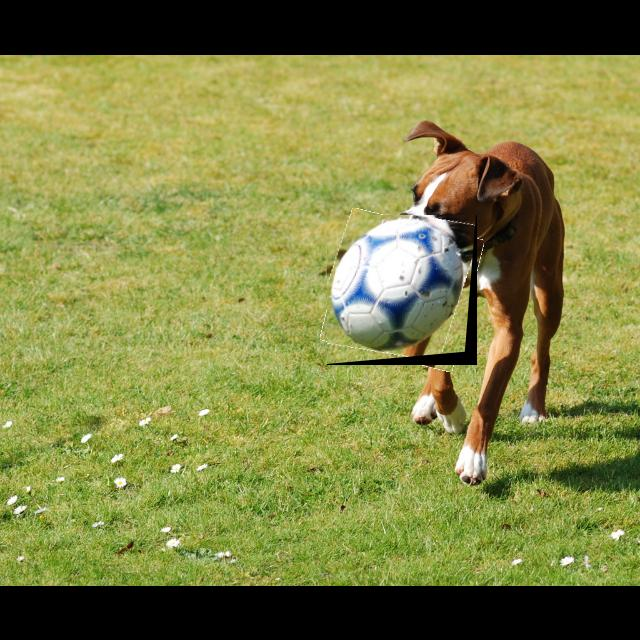Football: (327, 215, 477, 365)
